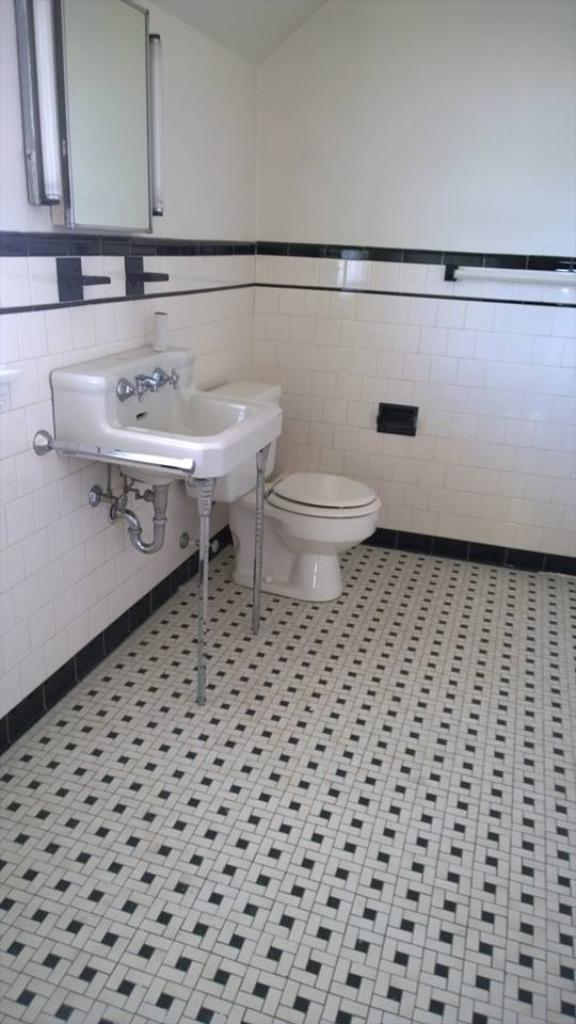tap: (137, 373, 157, 390)
